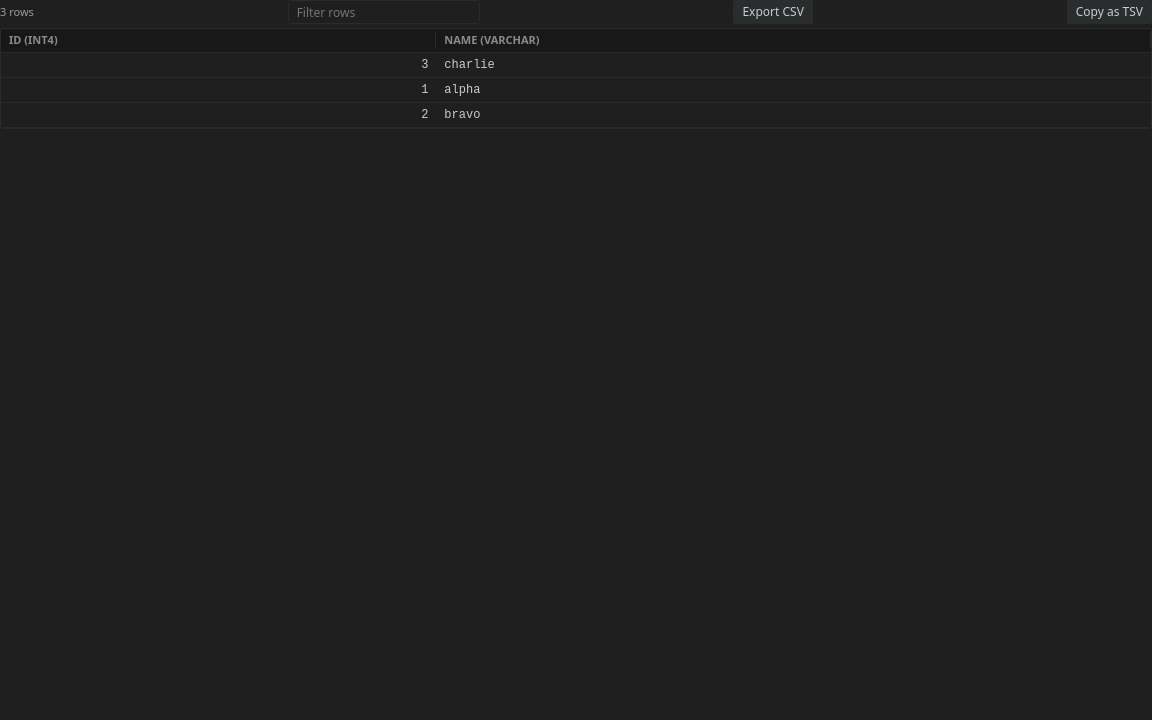
ResultsGrid — cell viewer › Escape closes the panel
The image size is (1152, 720).
Click the text "alpha": (794, 90) [436,78,1151,103]
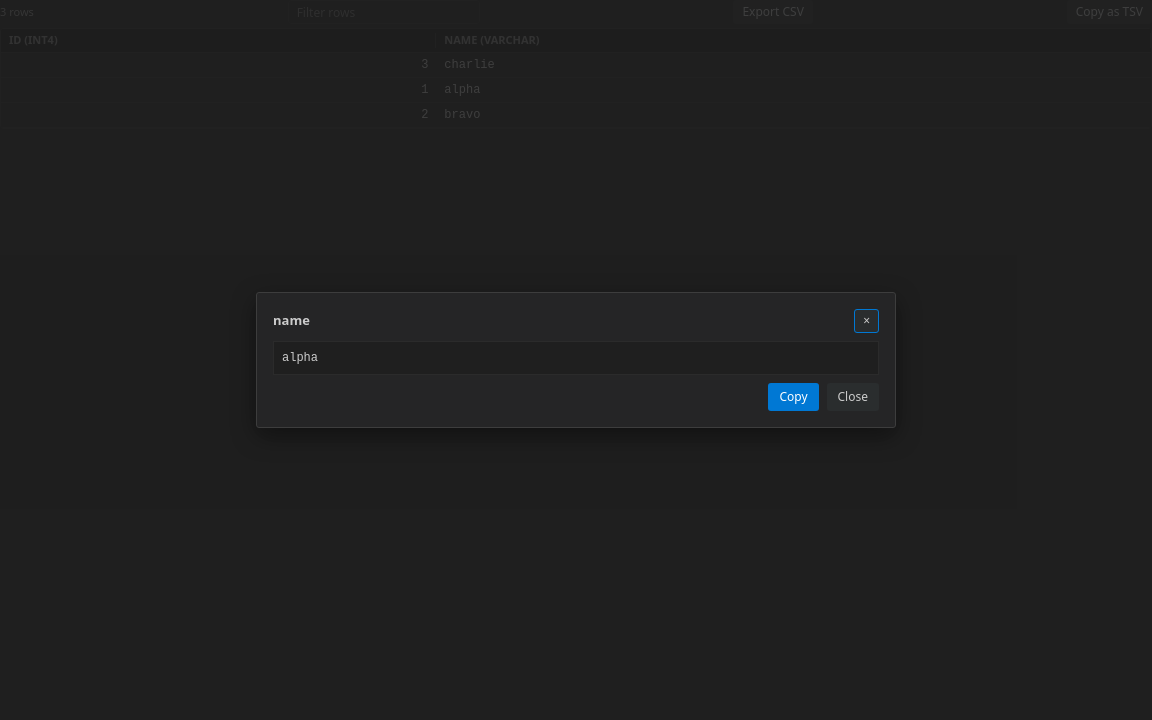
Press Escape in the dialog, box [256,292,896,428]
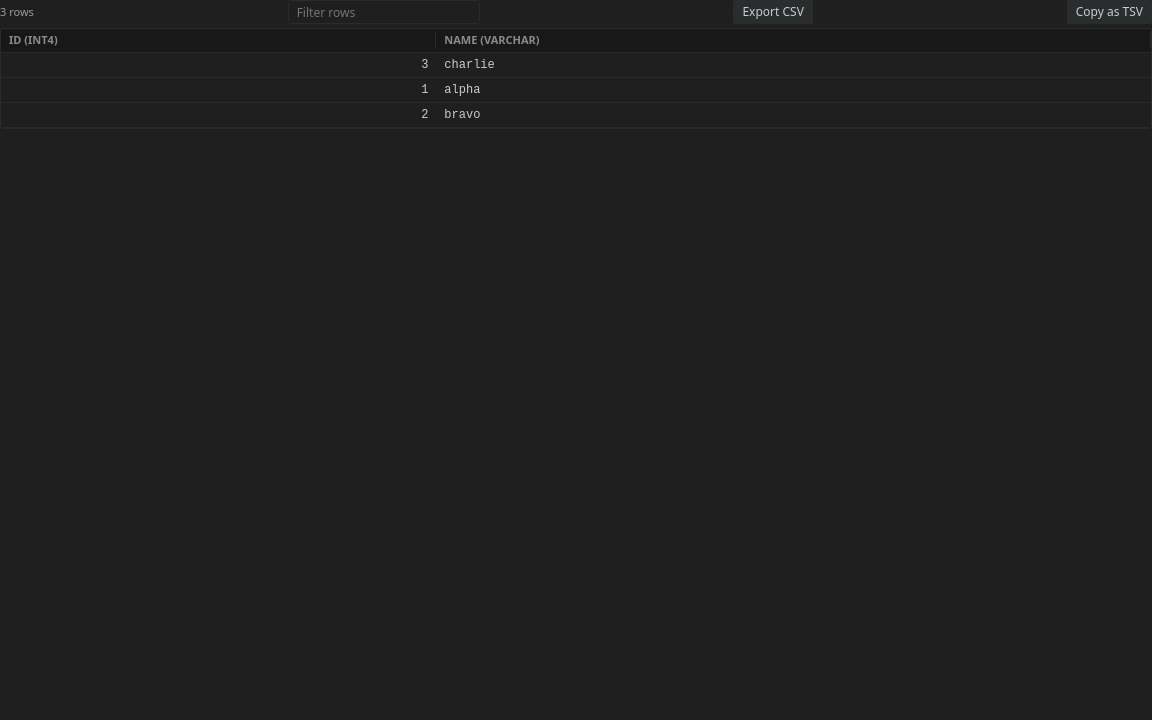
Result: the dialog is gone
